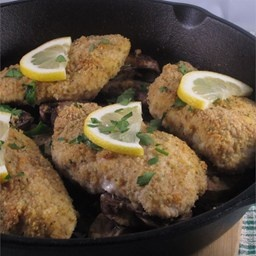background: (0, 13, 102, 95)
